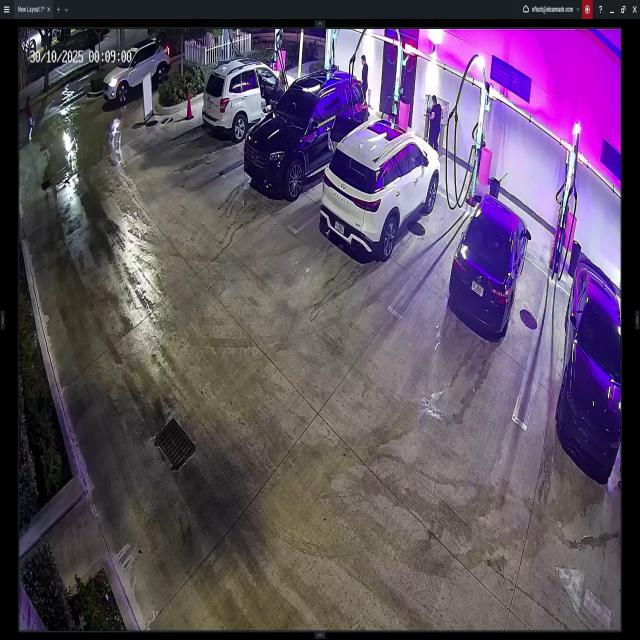Car: (321, 120, 440, 257), (247, 69, 367, 194), (560, 253, 621, 476), (451, 199, 532, 341), (208, 56, 295, 139), (101, 44, 172, 103)
